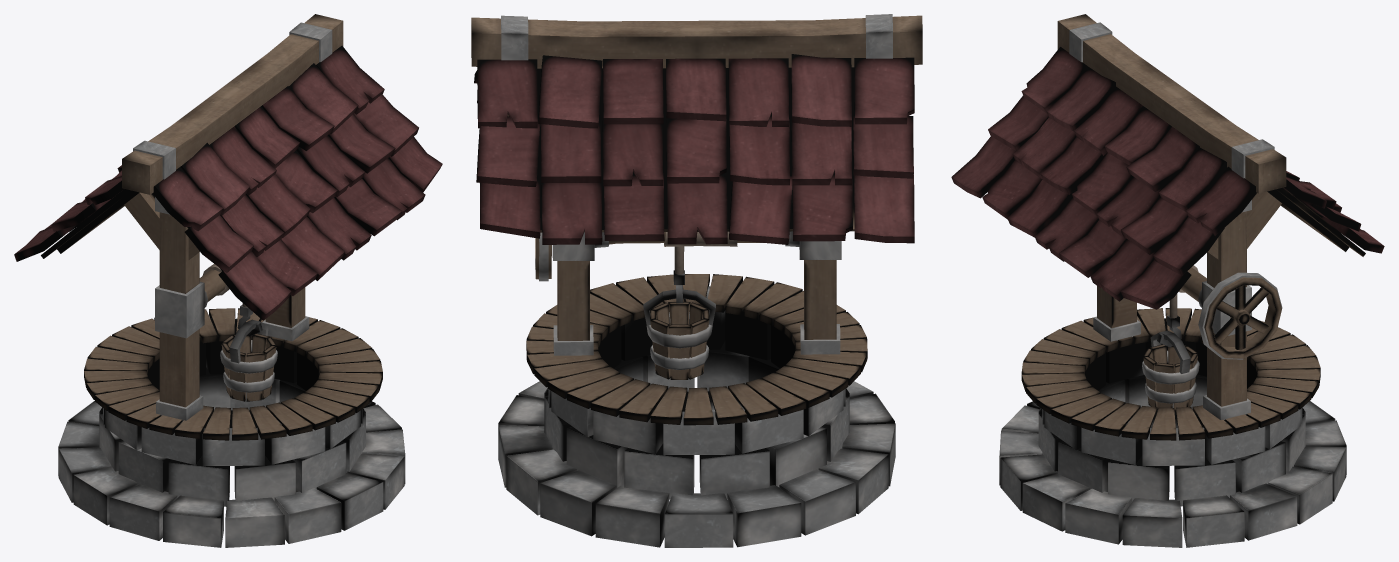
Rendered from Pozo.fbx.
The picture shows the model from 3 angles, left to right: view 1: azimuth 30°, elevation 25°; view 2: azimuth 150°, elevation 25°; view 3: azimuth 270°, elevation 25°; orthographic projection. The views are drawn at different scales.
Visible parts, largest first — view 1: Cube.015, Cube.004, Cube.007, Cube.005, Cube.012, Cube.008, Cube.006, Cube.016, Cube.009, Cube.011, BezierCircle.005, Cube.010 (+3 smaller); view 2: Cube.015, Cube.004, Cube.007, Cube.012, Cube.005, Cube.006, Cube.008, Cube.010, Cube.016, BezierCircle.005, Cube.017, BezierCircle.006 (+1 smaller); view 3: Cube.015, Cube.004, Cube.007, Cube.012, Cube.005, Cube.006, Cube.008, Cylinder.002, Cube.016, Cube.009, Cube.014, Cube.011 (+5 smaller).
Boxes of the visible parts, bbox=[...] form: Cube.015: bbox=[14, 45, 442, 320]; Cube.004: bbox=[58, 397, 405, 547]; Cube.007: bbox=[84, 308, 382, 440]; Cube.005: bbox=[99, 367, 365, 506]; Cube.012: bbox=[122, 14, 343, 194]; Cube.008: bbox=[155, 197, 309, 420]; Cube.006: bbox=[103, 318, 362, 465]; Cube.016: bbox=[221, 333, 276, 401]; Cube.009: bbox=[124, 192, 199, 259]; Cube.011: bbox=[57, 190, 139, 253]; BezierCircle.005: bbox=[220, 340, 277, 373]; Cube.010: bbox=[41, 189, 222, 271]; Cube.015: bbox=[474, 54, 914, 244]; Cube.004: bbox=[498, 375, 895, 547]; Cube.007: bbox=[526, 274, 867, 425]; Cube.012: bbox=[471, 14, 922, 68]; Cube.005: bbox=[544, 340, 849, 499]; Cube.006: bbox=[548, 286, 845, 455]; Cube.008: bbox=[552, 232, 841, 355]; Cube.010: bbox=[507, 67, 854, 232]; Cube.016: bbox=[650, 302, 709, 379]; BezierCircle.005: bbox=[646, 312, 712, 348]; Cube.017: bbox=[643, 289, 715, 325]; BezierCircle.006: bbox=[650, 345, 709, 369]; Cube.015: bbox=[951, 47, 1384, 309]; Cube.004: bbox=[999, 401, 1346, 547]; Cube.007: bbox=[1021, 308, 1320, 440]; Cube.012: bbox=[1057, 14, 1286, 193]; Cube.005: bbox=[1038, 374, 1305, 506]; Cube.006: bbox=[1042, 318, 1302, 465]; Cube.008: bbox=[1093, 200, 1251, 419]; Cylinder.002: bbox=[1198, 272, 1282, 359]; Cube.016: bbox=[1143, 344, 1198, 410]; Cube.009: bbox=[1208, 191, 1281, 259]; Cube.014: bbox=[1214, 287, 1268, 344]; Cube.011: bbox=[1267, 189, 1349, 251].
Size of the model in its own units: 3.9 by 3.54 by 3.61.
Materials: 1 (1 with a texture image).
